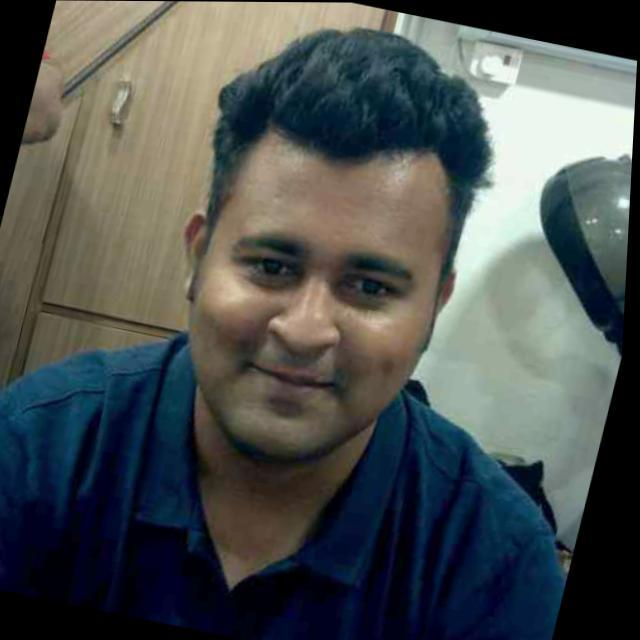Puffy Eyes - v3 Dark Circle: (336, 283, 394, 309), (249, 268, 302, 289)
